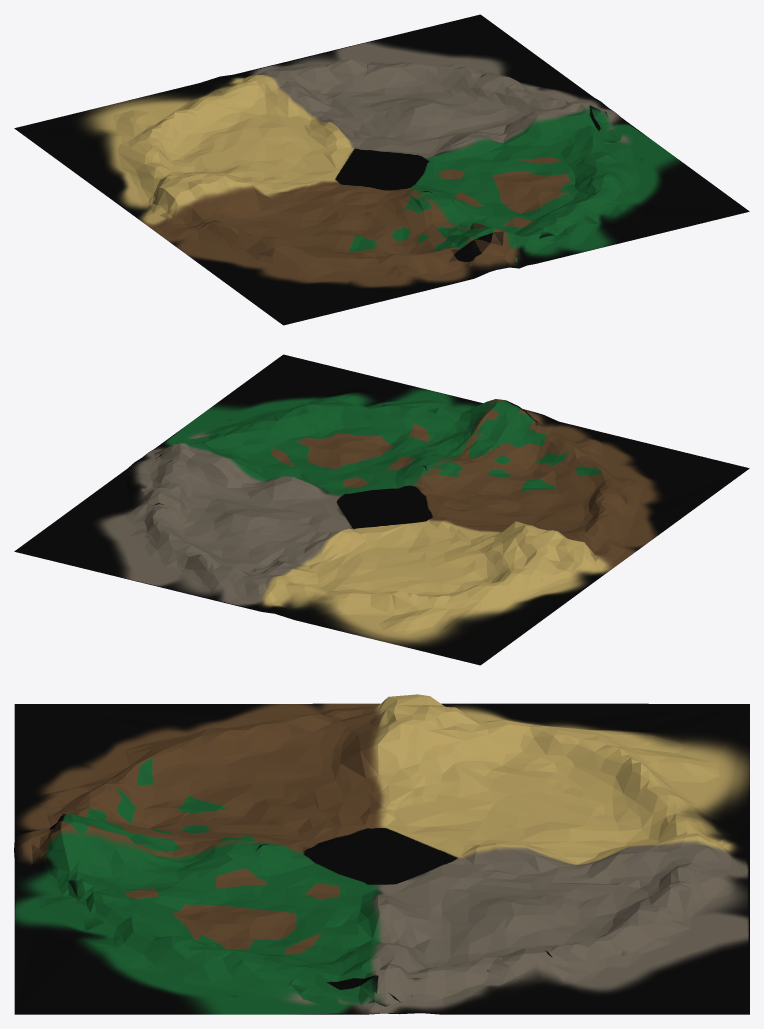
File: ondergrondpoorten.fbx
3 renders of one model, top to bottom at view 1: azimuth 30°, elevation 25°; view 2: azimuth 150°, elevation 25°; view 3: azimuth 270°, elevation 25°, orthographic. The views are drawn at different scales.
Visible parts, largest first — view 1: Plane; view 2: Plane; view 3: Plane.
Part boxes in pixels (bbox=[...]): Plane: bbox=[14, 14, 749, 325]; Plane: bbox=[14, 354, 749, 665]; Plane: bbox=[14, 694, 749, 1014].
Size of the model in its own units: 1952 by 138 by 1954.
